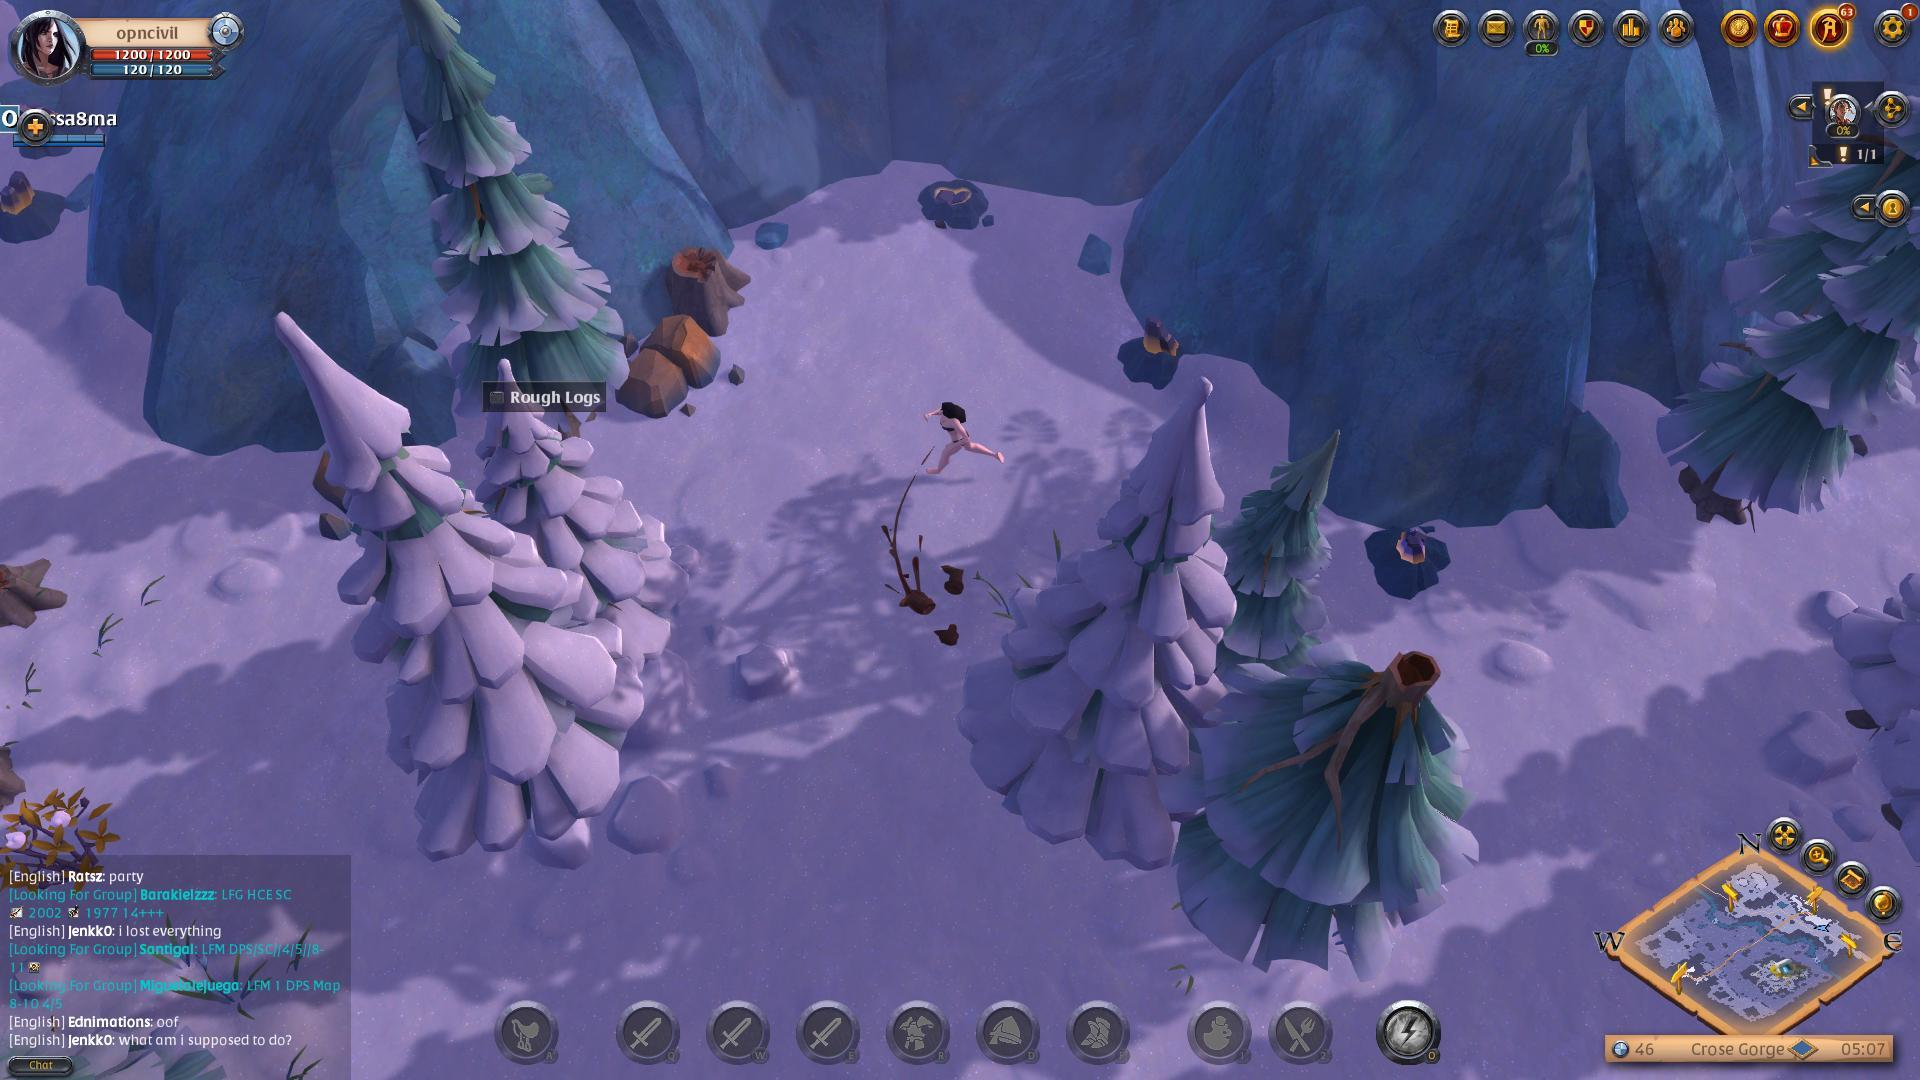copper_ore: (1097, 324, 1218, 396), (1357, 521, 1465, 600)
cotton: (3, 787, 131, 887)
limestone: (617, 310, 731, 427)
